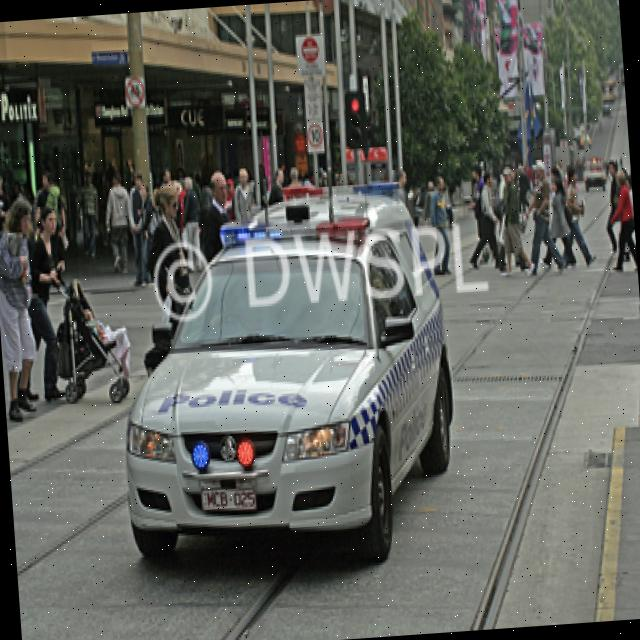Autre: (197, 485, 258, 519)
